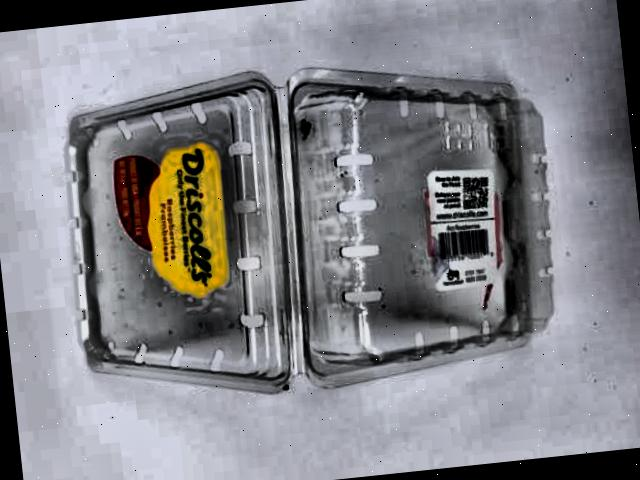Plastic: (10, 12, 609, 442)
